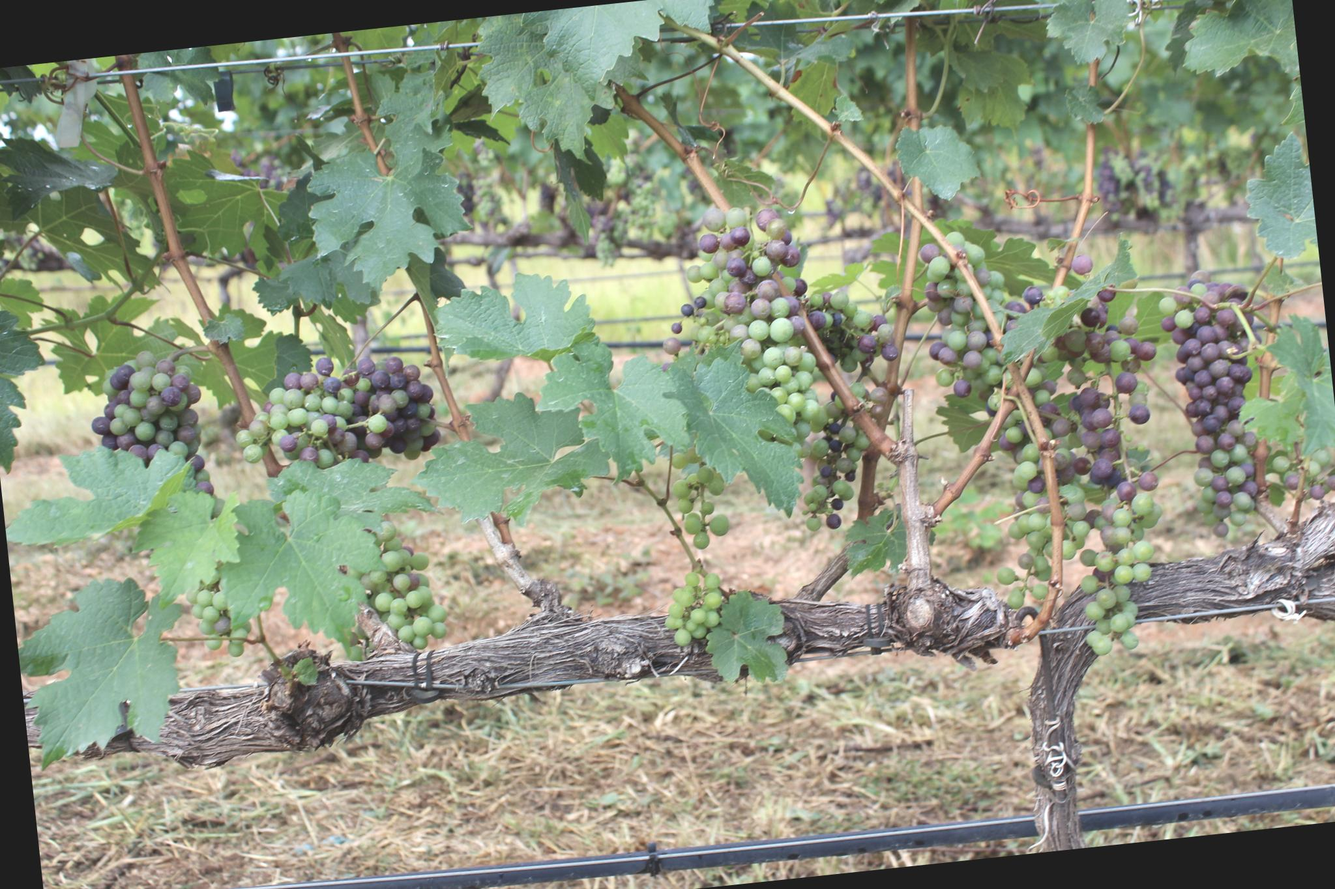Grape Unripe: (688, 195, 832, 444), (231, 350, 449, 473), (981, 389, 1090, 603), (85, 340, 221, 501), (1041, 270, 1146, 464), (1066, 464, 1170, 653), (911, 221, 1014, 393), (341, 501, 448, 656), (787, 381, 883, 534), (785, 272, 897, 372), (660, 459, 739, 555), (657, 560, 721, 649), (188, 583, 256, 659)
